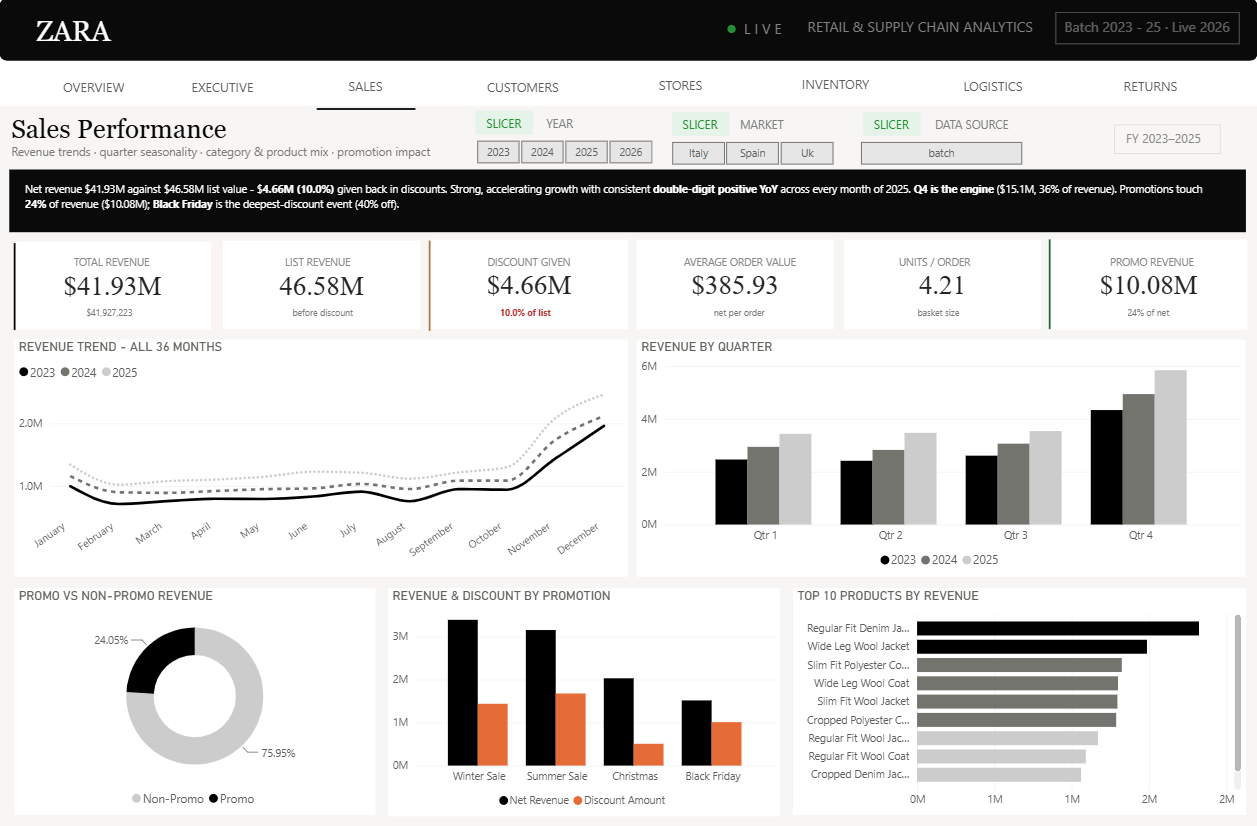

Layout of this report page (visuals, bound fields, positions):
{"tool":"powerbi","page":{"name":"SALES","canvas":[1440,950],"ordinal":2},"visuals":[{"type":"shape","box":[1.7,1.7,1438.3,71.7],"z":0},{"type":"textbox","box":[39.2,16.2,112.2,48.6],"z":1000},{"type":"shape","box":[0,73.3,1440,51.7],"z":2000},{"type":"textbox","box":[10,129.1,292.7,50.9],"z":3000},{"type":"textbox","box":[10,162.7,527.3,29.1],"z":4000},{"type":"textbox","box":[1275,146.2,121.2,33.8],"z":5000},{"type":"shape","box":[13.3,196.7,1413.3,71.7],"z":6000},{"type":"textbox","box":[26.1,204.3,1382.6,58],"z":7000},{"type":"card","fields":{"Values":["_Measures.Units per Order"]},"box":[967.7,277.7,224.6,102.3],"z":8000},{"type":"card","fields":{"Values":["_Measures.Avg Order Value"]},"box":[730,277.7,225.4,102.3],"z":9000},{"type":"card","fields":{"Values":["_Measures.Net Revenue"]},"box":[18.5,280,224.6,100],"z":10000},{"type":"card","fields":{"Values":["_Measures.List Revenue"]},"box":[256.9,279.2,225.4,100.8],"z":11000},{"type":"card","fields":{"Values":["_Measures.Discount Amount"]},"box":[493.8,277.7,225.4,102.3],"z":12000},{"type":"shape","box":[12.3,280.8,12.3,99.2],"z":13000},{"type":"textbox","box":[80.8,288.5,109.2,29.2],"z":14000},{"type":"textbox","box":[95.4,346.2,71.5,29.2],"z":15000},{"type":"textbox","box":[323.1,288.5,110,29.2],"z":16000},{"type":"textbox","box":[554,288,107,30],"z":17000},{"type":"textbox","box":[778,288,140,30],"z":18000},{"type":"textbox","box":[813,346,81,28],"z":19000},{"type":"textbox","box":[1023.8,288.5,139.2,29.2],"z":20000},{"type":"textbox","box":[1045.4,346.2,86.9,27.7],"z":21000},{"type":"card","fields":{"Values":["_Measures.Promo Revenue"]},"box":[1202.3,276.9,224.6,103.1],"z":22000},{"type":"textbox","box":[1265,288,117,30],"z":23000},{"type":"textbox","box":[1286,346,82,28],"z":24000},{"type":"shape","box":[487.7,279.2,12.3,103.1],"z":25000},{"type":"textbox","box":[569.2,346.2,84.6,27.7],"z":26000},{"type":"lineChart","title":"REVENUE TREND - ALL 36 MONTHS","fields":{"Category":["gold dim_date.full_date.Variation.Date Hierarchy.Year","gold dim_date.full_date.Variation.Date Hierarchy.Quarter","gold dim_date.full_date.Variation.Date Hierarchy.Month","gold dim_date.full_date.Variation.Date Hierarchy.Day"],"Series":["gold dim_date.year"],"Y":["_Measures.Net Revenue"]},"box":[18.8,391.3,701.4,271],"z":27000},{"type":"clusteredColumnChart","title":"REVENUE BY QUARTER","fields":{"Y":["_Measures.Net Revenue"],"Category":["gold dim_date.full_date.Variation.Date Hierarchy.Quarter"],"Series":["gold dim_date.year"]},"box":[730.4,391.3,695.7,271],"z":28000},{"type":"donutChart","title":"PROMO VS NON-PROMO REVENUE","fields":{"Category":["gold fact_sales.Promo Flag"],"Y":["_Measures.Net Revenue"]},"box":[18.8,675.4,413,259.4],"z":29000},{"type":"clusteredColumnChart","title":"REVENUE & DISCOUNT BY PROMOTION","fields":{"Category":["gold dim_promotions.promo_name"],"Y":["_Measures.Net Revenue","_Measures.Discount Amount"]},"box":[446.4,675.4,447.8,260.9],"z":30000},{"type":"barChart","title":"TOP 10 PRODUCTS BY REVENUE","fields":{"Y":["_Measures.Net Revenue"],"Category":["gold dim_products.product_name"]},"box":[908.7,675.4,517.4,259.4],"z":31000},{"type":"textbox","box":[332,346,86,34],"z":32000},{"type":"shape","box":[1196.2,277.6,12.4,102.4],"z":33000},{"type":"shape","box":[363.6,105.5,112.7,44.5],"z":34000},{"type":"actionButton","box":[182.9,75.7,147.4,53.9],"z":35000},{"type":"actionButton","box":[330.4,74.3,179.7,54.1],"z":36000},{"type":"actionButton","box":[510.1,75.7,179.7,54.1],"z":37000},{"type":"actionButton","box":[689.6,73.2,180,54.7],"z":38000},{"type":"actionButton","box":[867.5,71.6,180,54.7],"z":39000},{"type":"actionButton","box":[1047.6,73.8,180,54.3],"z":40000},{"type":"actionButton","box":[1226.7,75,180,54.4],"z":41000},{"type":"actionButton","box":[35.6,75.6,147.4,53.7],"z":42000},{"type":"textbox","box":[1208.3,16.7,210,36.7],"z":43000},{"type":"textbox","box":[911.7,16.7,283.3,36.7],"z":44000},{"type":"textbox","box":[826.7,16.7,85,36.7],"z":45000},{"type":"slicer","fields":{"Values":["gold fact_sales.source_system"]},"box":[960,158.5,234.6,34.6],"z":45001},{"type":"textbox","box":[988.2,130.9,65.5,27.3],"z":45002},{"type":"textbox","box":[1065.4,131.2,107.5,27.2],"z":45003},{"type":"slicer","fields":{"Values":["gold dim_customers.country"]},"box":[743.6,158.2,234.5,34.5],"z":45004},{"type":"textbox","box":[770,130.9,65.5,27.3],"z":45005},{"type":"textbox","box":[842.2,131.1,70,31.1],"z":45006},{"type":"slicer","fields":{"Values":["gold dim_date.full_date.Variation.Date Hierarchy.Year"]},"box":[520.9,157.3,250,34.5],"z":45007},{"type":"textbox","box":[546.4,130,65.5,27.3],"z":45008},{"type":"textbox","box":[620.9,130,49.1,27.3],"z":45009}]}

Visuals, with their boxes in screenshot pixels (x1, y1, x2, y2), scaled from the page's 1440x950 canvas onto the 1257x826 screenshot:
shape: l=1, t=1, r=1256, b=64
textbox: l=34, t=14, r=132, b=56
shape: l=0, t=64, r=1256, b=109
textbox: l=9, t=112, r=264, b=157
textbox: l=9, t=141, r=469, b=167
textbox: l=1113, t=127, r=1219, b=157
shape: l=12, t=171, r=1245, b=233
textbox: l=23, t=178, r=1230, b=228
card - _Measures.Units per Order: l=845, t=241, r=1041, b=330
card - _Measures.Avg Order Value: l=637, t=241, r=834, b=330
card - _Measures.Net Revenue: l=16, t=243, r=212, b=330
card - _Measures.List Revenue: l=224, t=243, r=421, b=330
card - _Measures.Discount Amount: l=431, t=241, r=628, b=330
shape: l=11, t=244, r=21, b=330
textbox: l=71, t=251, r=166, b=276
textbox: l=83, t=301, r=146, b=326
textbox: l=282, t=251, r=378, b=276
textbox: l=484, t=250, r=577, b=276
textbox: l=679, t=250, r=801, b=276
textbox: l=710, t=301, r=780, b=325
textbox: l=894, t=251, r=1015, b=276
textbox: l=913, t=301, r=988, b=325
card - _Measures.Promo Revenue: l=1050, t=241, r=1246, b=330
textbox: l=1104, t=250, r=1206, b=276
textbox: l=1123, t=301, r=1194, b=325
shape: l=426, t=243, r=436, b=332
textbox: l=497, t=301, r=571, b=325
"REVENUE TREND - ALL 36 MONTHS" lineChart: l=16, t=340, r=629, b=576
"REVENUE BY QUARTER" clusteredColumnChart: l=638, t=340, r=1245, b=576
"PROMO VS NON-PROMO REVENUE" donutChart: l=16, t=587, r=377, b=813
"REVENUE & DISCOUNT BY PROMOTION" clusteredColumnChart: l=390, t=587, r=781, b=814
"TOP 10 PRODUCTS BY REVENUE" barChart: l=793, t=587, r=1245, b=813
textbox: l=290, t=301, r=365, b=330
shape: l=1044, t=241, r=1055, b=330
shape: l=317, t=92, r=416, b=130
actionButton: l=160, t=66, r=288, b=113
actionButton: l=288, t=65, r=445, b=112
actionButton: l=445, t=66, r=602, b=113
actionButton: l=602, t=64, r=759, b=111
actionButton: l=757, t=62, r=914, b=110
actionButton: l=914, t=64, r=1072, b=111
actionButton: l=1071, t=65, r=1228, b=113
actionButton: l=31, t=66, r=160, b=112
textbox: l=1055, t=15, r=1238, b=46
textbox: l=796, t=15, r=1043, b=46
textbox: l=722, t=15, r=796, b=46
slicer - gold fact_sales.source_system: l=838, t=138, r=1043, b=168
textbox: l=863, t=114, r=920, b=138
textbox: l=930, t=114, r=1024, b=138
slicer - gold dim_customers.country: l=649, t=138, r=854, b=168
textbox: l=672, t=114, r=729, b=138
textbox: l=735, t=114, r=796, b=141
slicer - gold dim_date.full_date.Variation.Date Hierarchy.Year: l=455, t=137, r=673, b=167
textbox: l=477, t=113, r=534, b=137
textbox: l=542, t=113, r=585, b=137
